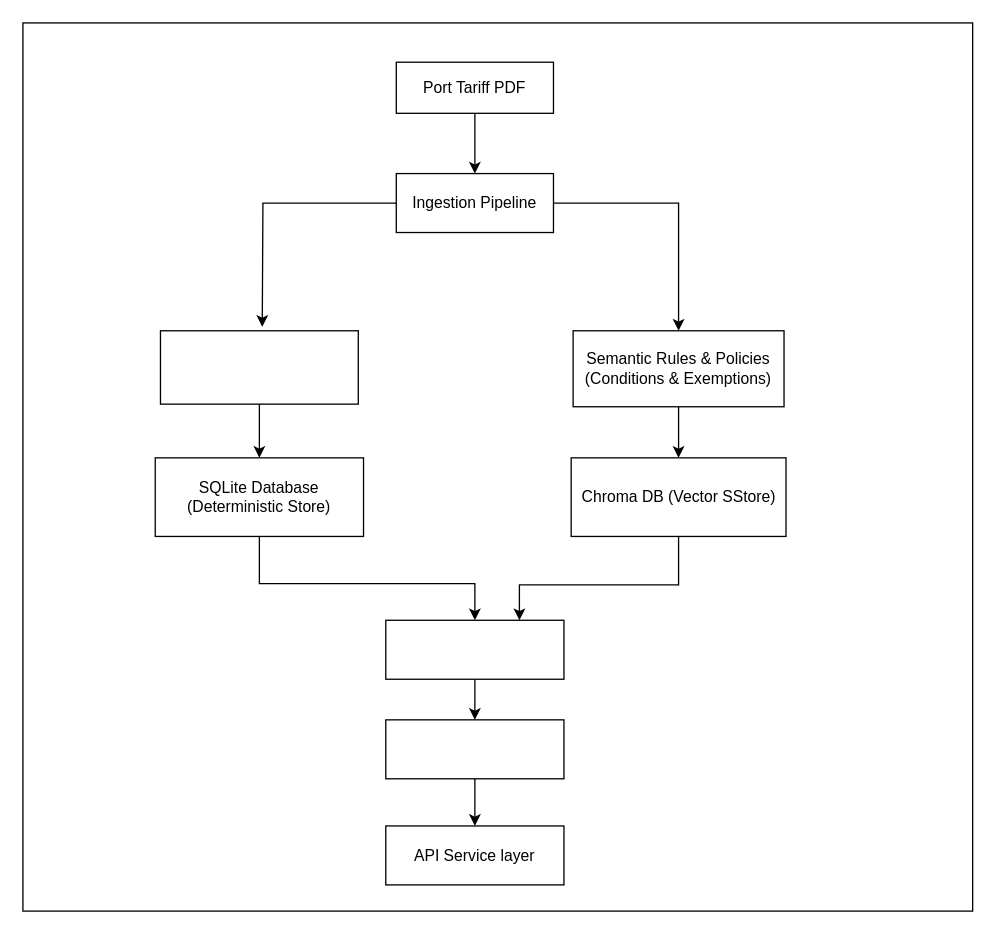
The diagram is 996 pixels wide and 934 high, and some of its shapes have lost their labels. Each missing label, with the centre of its shape:
"Calculation Engine" belongs at (x=474, y=749).
"Langchain Orchestration" belongs at (x=474, y=649).
"Structured Numeric Data (Rates, Fees, Tiers)" belongs at (x=258, y=366).
